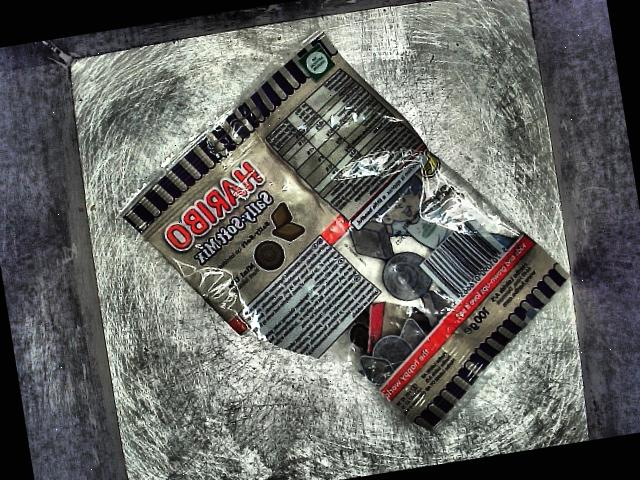Plastic: (109, 8, 576, 470)
